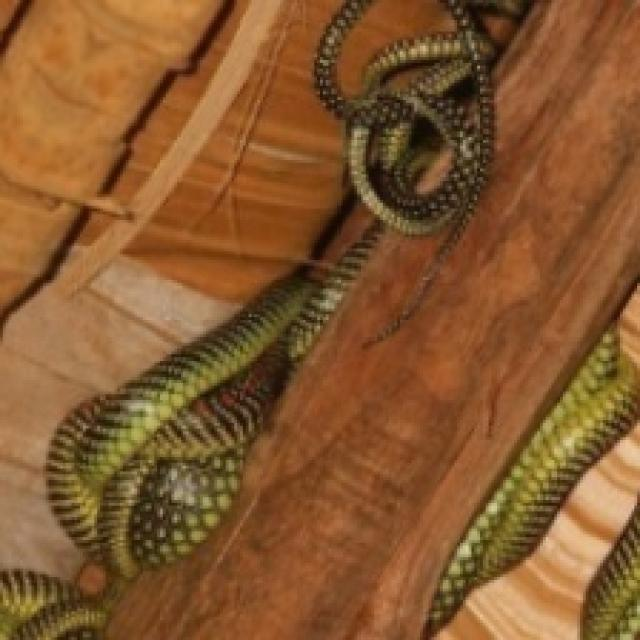paradise tree snake: (109, 0, 637, 637), (0, 277, 234, 569)
